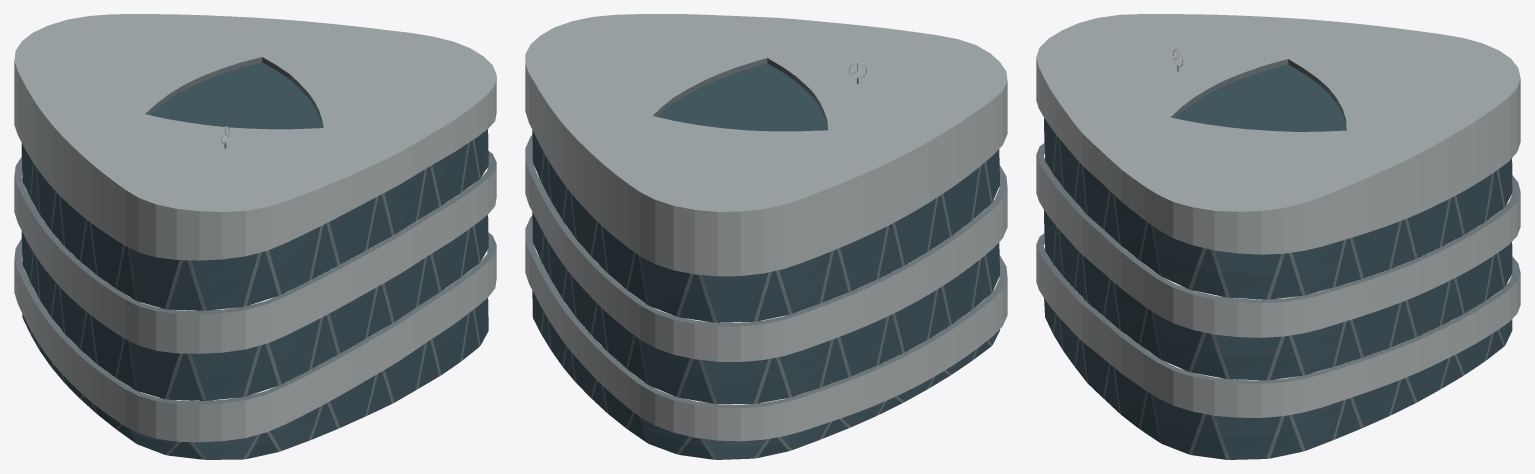
File: mercedes-benz-museum-far.glb
3 renders of one model, left to right at view 1: azimuth 30°, elevation 25°; view 2: azimuth 150°, elevation 25°; view 3: azimuth 270°, elevation 25°, orthographic.
Visible parts, largest first — view 1: mercedes-benz-museum-0-roof, mercedes-benz-museum-0-aluminium, mercedes-benz-museum-0-glow, mercedes-benz-museum-0-frame; view 2: mercedes-benz-museum-0-aluminium, mercedes-benz-museum-0-roof, mercedes-benz-museum-0-glow, mercedes-benz-museum-0-frame; view 3: mercedes-benz-museum-0-glow, mercedes-benz-museum-0-roof, mercedes-benz-museum-0-aluminium, mercedes-benz-museum-0-frame.
Boxes of the visible parts, <box> form: mercedes-benz-museum-0-roof: <box>14,14,496,211</box>; mercedes-benz-museum-0-aluminium: <box>14,61,496,442</box>; mercedes-benz-museum-0-glow: <box>22,62,488,459</box>; mercedes-benz-museum-0-frame: <box>14,57,496,459</box>; mercedes-benz-museum-0-aluminium: <box>525,64,1007,441</box>; mercedes-benz-museum-0-roof: <box>525,14,1007,211</box>; mercedes-benz-museum-0-glow: <box>532,63,1000,459</box>; mercedes-benz-museum-0-frame: <box>525,58,1007,459</box>; mercedes-benz-museum-0-glow: <box>1044,64,1512,459</box>; mercedes-benz-museum-0-roof: <box>1036,14,1520,211</box>; mercedes-benz-museum-0-aluminium: <box>1036,58,1520,417</box>; mercedes-benz-museum-0-frame: <box>1036,59,1520,459</box>.
Bounding box in the file's own units: 79.99 × 51.55 × 82.75.
